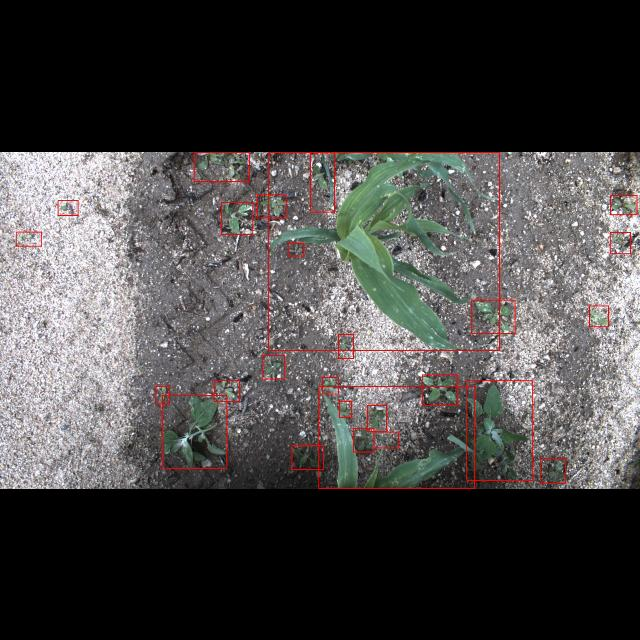crop: (268, 151, 500, 349), (319, 386, 475, 488)
weed: (467, 380, 533, 480), (162, 394, 226, 468), (194, 152, 248, 180), (310, 151, 334, 211), (472, 299, 514, 333), (422, 374, 458, 406), (222, 201, 252, 233), (292, 445, 324, 469), (540, 458, 566, 484), (258, 194, 286, 216), (214, 379, 240, 401), (263, 355, 285, 379), (368, 405, 387, 431), (611, 194, 637, 213), (354, 428, 374, 452), (610, 232, 630, 252), (338, 334, 354, 358), (374, 432, 398, 448), (590, 306, 608, 326), (15, 231, 40, 245), (322, 376, 338, 394), (58, 200, 78, 214), (156, 386, 170, 404), (288, 242, 304, 255), (339, 401, 351, 417)
